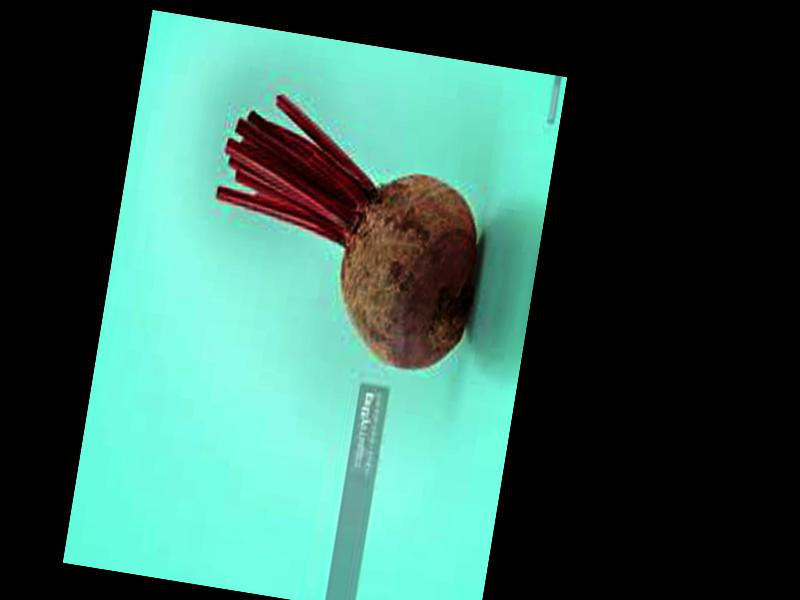Beet: (192, 88, 499, 377)
